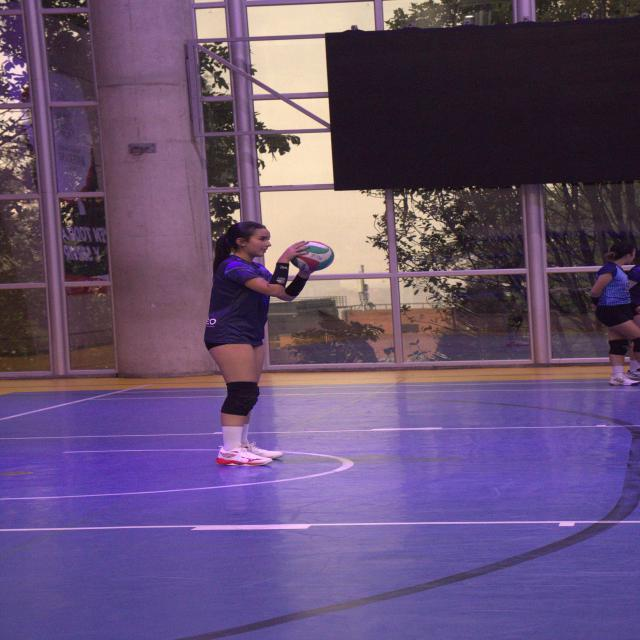volleyball: (287, 242, 332, 270)
